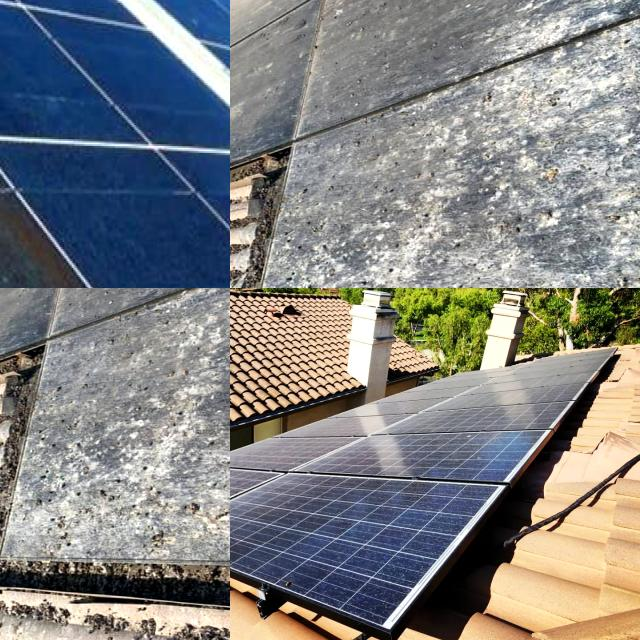bird: (230, 133, 333, 247), (0, 331, 87, 445), (378, 78, 428, 162), (131, 288, 182, 359), (370, 5, 448, 49), (388, 172, 445, 230), (142, 370, 199, 428), (264, 108, 340, 140), (18, 306, 94, 338), (264, 28, 322, 66), (550, 124, 599, 166), (456, 120, 500, 164), (123, 288, 201, 309), (566, 66, 600, 110), (350, 0, 421, 20), (104, 288, 175, 308), (230, 79, 271, 108), (276, 0, 337, 18), (30, 288, 91, 306), (18, 288, 75, 307), (209, 318, 230, 362), (230, 0, 287, 14), (0, 288, 41, 302), (0, 288, 28, 306)
dust: (230, 483, 437, 550)
shadow: (0, 142, 174, 288)
